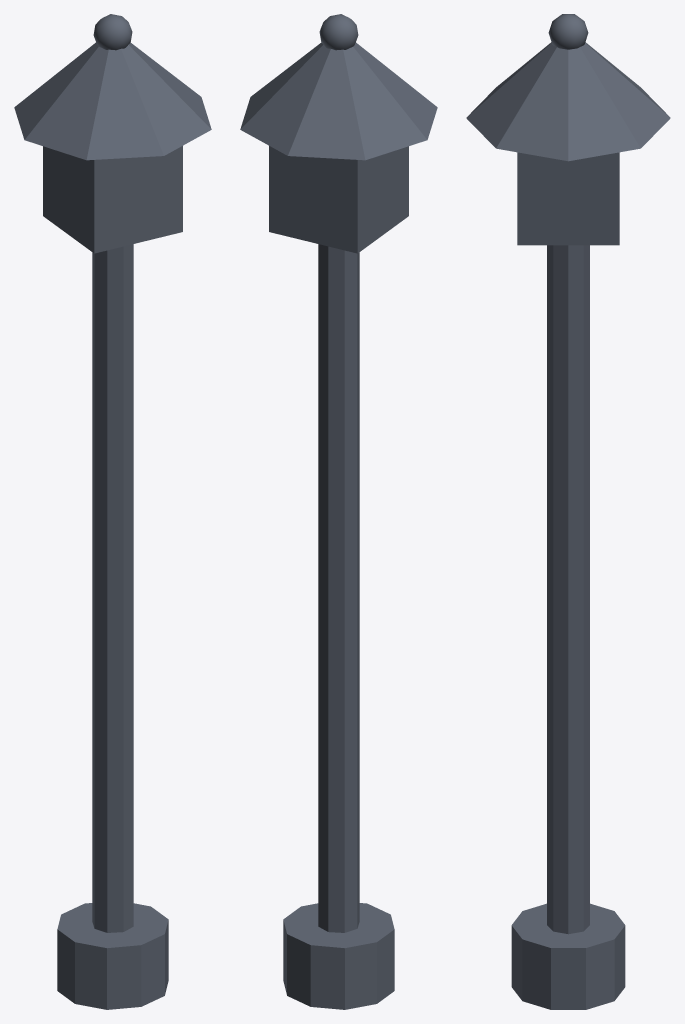
Rendered from lamp.glb.
3 renders of one model, left to right at view 1: azimuth 30°, elevation 25°; view 2: azimuth 150°, elevation 25°; view 3: azimuth 270°, elevation 25°, orthographic.
Visible parts, largest first — view 1: lamp; view 2: lamp; view 3: lamp.
Boxes of the visible parts, left/top/right/bottom form: lamp: left=14, top=14, right=211, bottom=1009; lamp: left=240, top=14, right=437, bottom=1009; lamp: left=466, top=14, right=670, bottom=1009.
Size of the model in its own units: 0.72 by 3.77 by 0.72.
